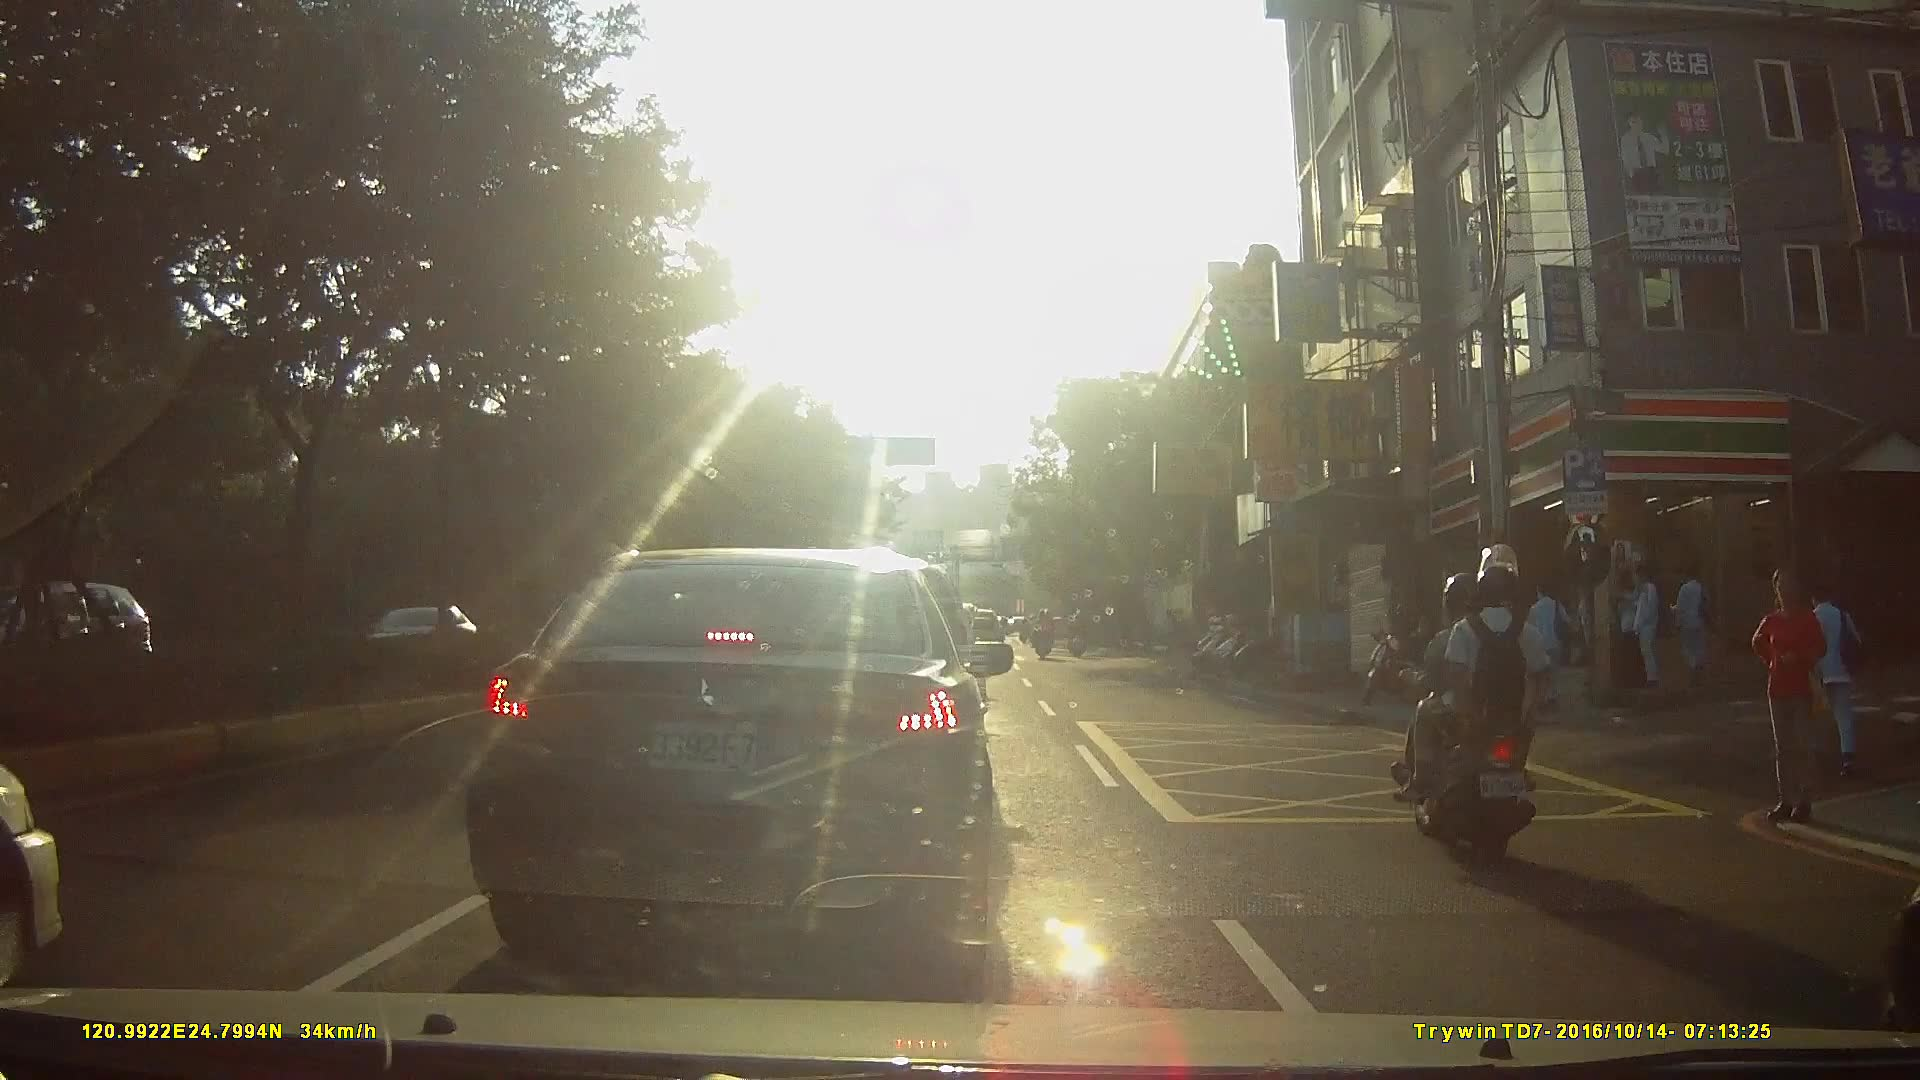pedestrian: (1753, 567, 1828, 823), (1617, 565, 1660, 690), (1677, 565, 1719, 681), (1610, 567, 1638, 697)
rider: (1399, 541, 1561, 867), (1036, 606, 1056, 664), (1066, 612, 1088, 662)
vehicle: (461, 537, 1042, 969), (20, 579, 159, 688)
